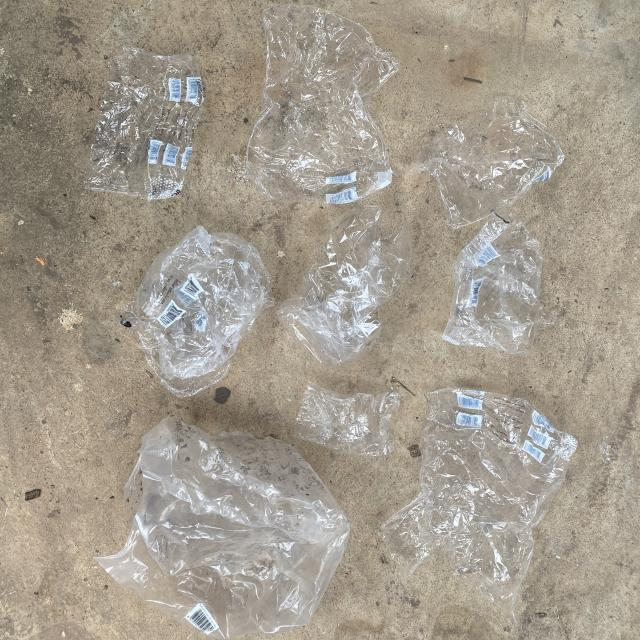Single-layer Plastic: (96, 416, 350, 639), (378, 389, 576, 614), (408, 96, 564, 355), (246, 4, 399, 204), (135, 226, 271, 395), (278, 206, 411, 365), (85, 45, 204, 200), (294, 382, 400, 456)
